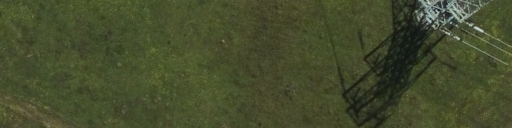TT: (349, 1, 493, 123)
